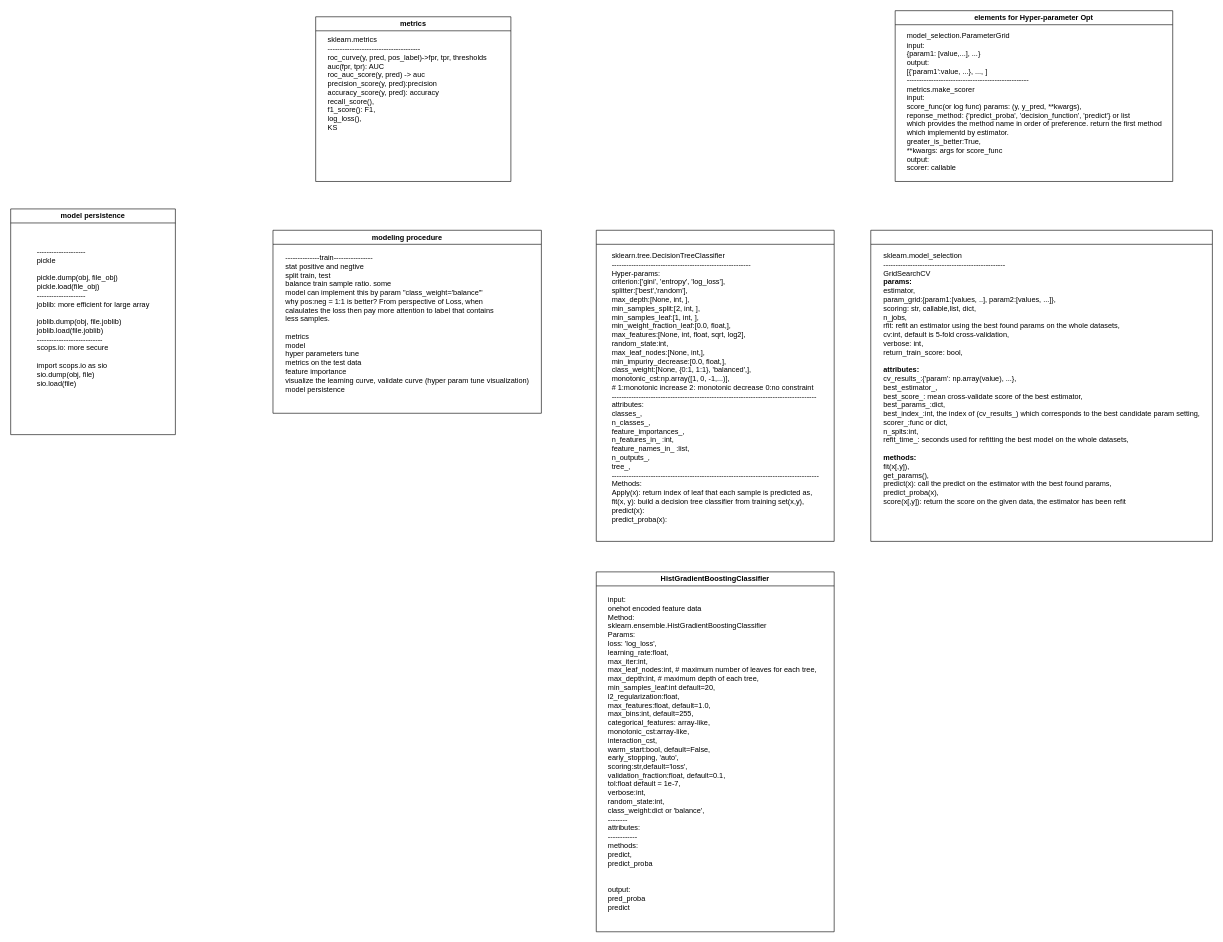
This 1223x942 diagram has some shape labels left out. The shapes that lost their labels are listed below. From the top down, each one's box as (x1, y1, x2, y2) in pixels, then its label:
(596, 230, 834, 541): tree model
(870, 230, 1212, 541): Hyper-parameter Optimizer
